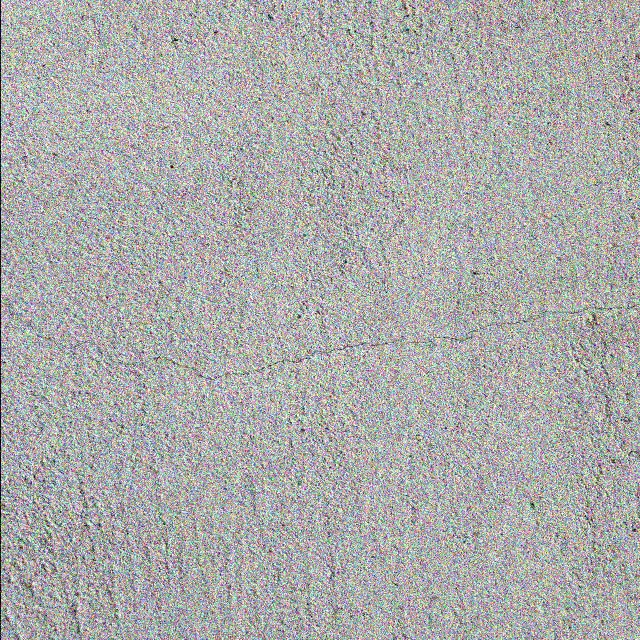SurfaceCrack: (1, 268, 639, 408)
